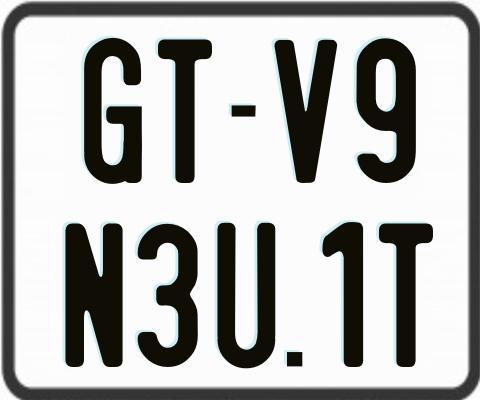1: (321, 222, 367, 372)
3: (136, 222, 196, 368)
9: (354, 35, 419, 182)
G: (81, 35, 141, 181)
N: (64, 223, 125, 371)
T: (157, 38, 215, 186), (378, 222, 432, 372)
U: (216, 220, 278, 366)
V: (273, 40, 339, 187)
